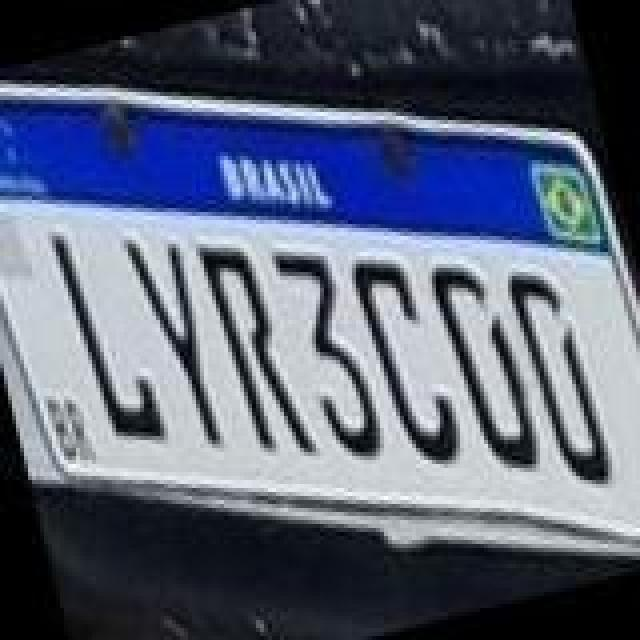3: (270, 234, 386, 470)
C: (348, 246, 468, 474)
D: (426, 250, 550, 486), (502, 254, 618, 498)
L: (50, 214, 174, 458)
R: (194, 230, 318, 474)
Y: (122, 228, 230, 460)
